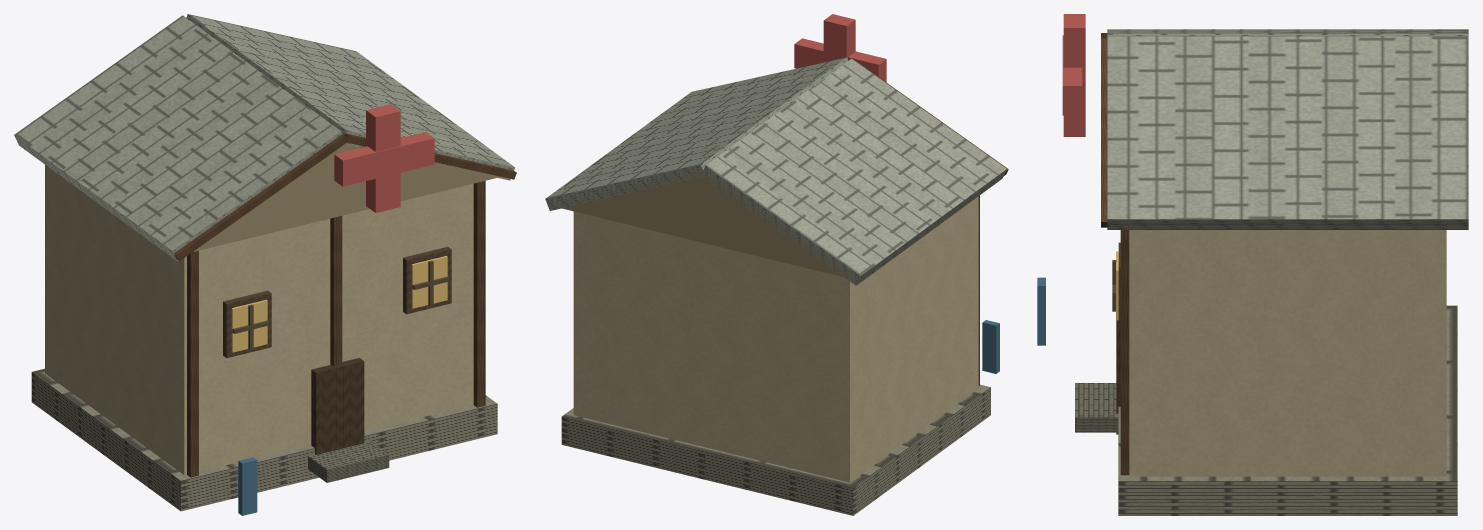
File: procedural_infirmary@6.glb
3 renders of one model, left to right at view 1: azimuth 30°, elevation 25°; view 2: azimuth 150°, elevation 25°; view 3: azimuth 270°, elevation 25°, orthographic. The views are drawn at different scales.
Visible parts, largest first — view 1: part_1, part_5, part_0, part_6, part_2, part_11, part_3, part_7, part_9, part_8, part_4, part_12 (+1 smaller); view 2: part_1, part_5, part_0, part_6, part_11, part_12; view 3: part_1, part_5, part_0, part_11, part_2, part_4, part_7, part_12.
Boxes of the visible parts, x1,y1,x2,y2 form: part_1: (45,165,473,475); part_5: (14,14,514,261); part_0: (31,368,497,511); part_6: (193,143,500,251); part_2: (187,180,485,477); part_11: (334,104,434,212); part_3: (311,358,364,454); part_7: (174,133,516,261); part_9: (231,256,447,352); part_8: (223,246,451,358); part_4: (308,441,389,482); part_12: (238,457,257,515); part_1: (573,196,978,482); part_5: (545,57,1006,285); part_0: (561,384,990,515); part_6: (552,171,857,280); part_11: (794,14,886,82); part_12: (982,320,999,373); part_1: (1129,230,1446,476); part_5: (1107,29,1468,229); part_0: (1118,305,1457,515); part_11: (1062,14,1085,136); part_2: (1120,230,1129,475); part_4: (1075,383,1118,432); part_7: (1101,33,1109,227); part_12: (1037,277,1045,345).
Bounding box in the file's own units: 4.11 × 4.24 × 3.94.
13 materials, 9 textured.
